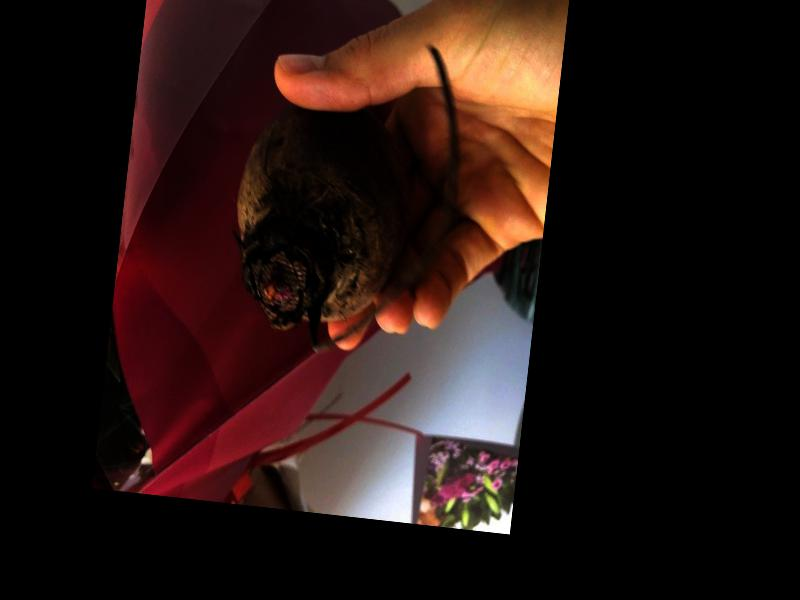Beet: (221, 26, 470, 368)
